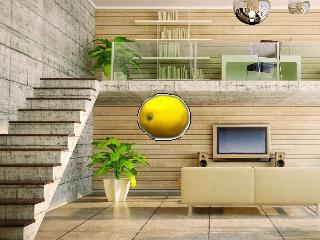lemon: (140, 96, 189, 139)
